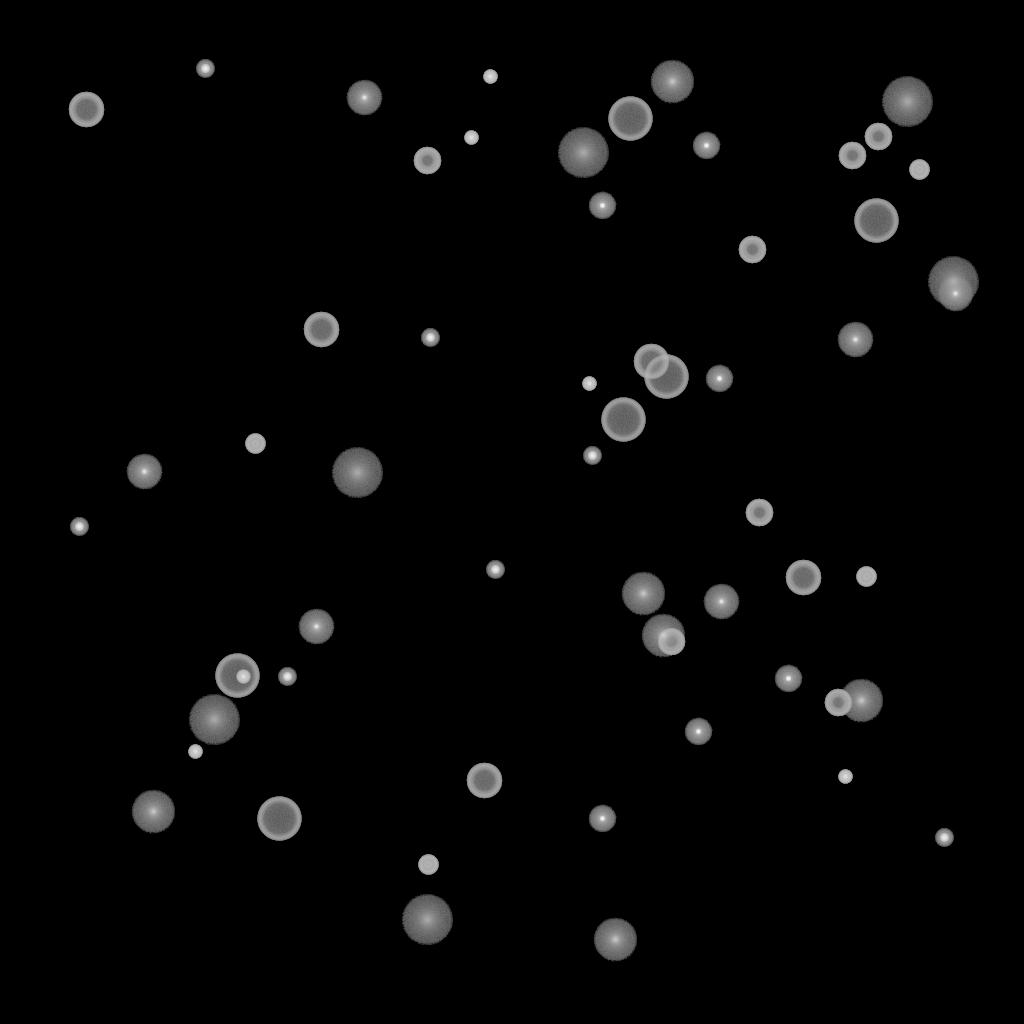depth:-10: (705, 365, 733, 393), (588, 805, 616, 833), (774, 665, 802, 693), (684, 718, 712, 746), (588, 192, 616, 220), (692, 132, 720, 160)
depth:-20: (278, 668, 296, 686), (583, 447, 601, 465), (196, 60, 214, 78), (421, 329, 439, 347), (70, 518, 88, 536), (935, 829, 953, 847), (486, 561, 504, 579)
depth:-30: (464, 131, 478, 145), (582, 377, 596, 391), (838, 770, 852, 784), (483, 70, 497, 84), (236, 670, 250, 684), (188, 745, 202, 759)
depth:-40: (245, 434, 265, 454), (418, 855, 438, 875), (856, 567, 876, 587), (909, 160, 929, 180)
depth:-50: (738, 236, 766, 264), (864, 123, 892, 151), (745, 499, 773, 527), (838, 142, 866, 170), (824, 689, 852, 717), (657, 628, 685, 656), (413, 147, 441, 175)
depth:-60: (785, 560, 821, 596), (303, 312, 339, 348), (633, 344, 669, 380), (68, 92, 104, 128), (466, 763, 502, 799)
depth:-70: (215, 654, 259, 698), (257, 797, 301, 841), (644, 355, 688, 399), (608, 97, 652, 141), (601, 398, 645, 442), (854, 199, 898, 243)
depth:0: (703, 584, 739, 620), (126, 454, 162, 490), (837, 322, 873, 358), (937, 276, 973, 312), (298, 609, 334, 645), (346, 80, 382, 116)
depth:10: (131, 790, 175, 834), (593, 918, 637, 962), (621, 572, 665, 616), (650, 60, 694, 104), (839, 679, 883, 723), (641, 614, 685, 658)
depth:20: (927, 257, 979, 307), (557, 128, 609, 178), (401, 895, 453, 945), (188, 695, 240, 745), (331, 448, 383, 498), (881, 77, 933, 127)
